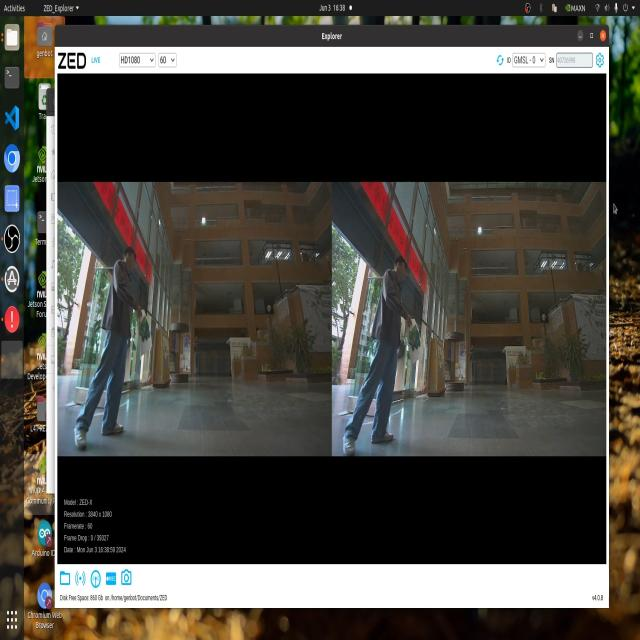green: (408, 318, 426, 357), (138, 314, 154, 349)
